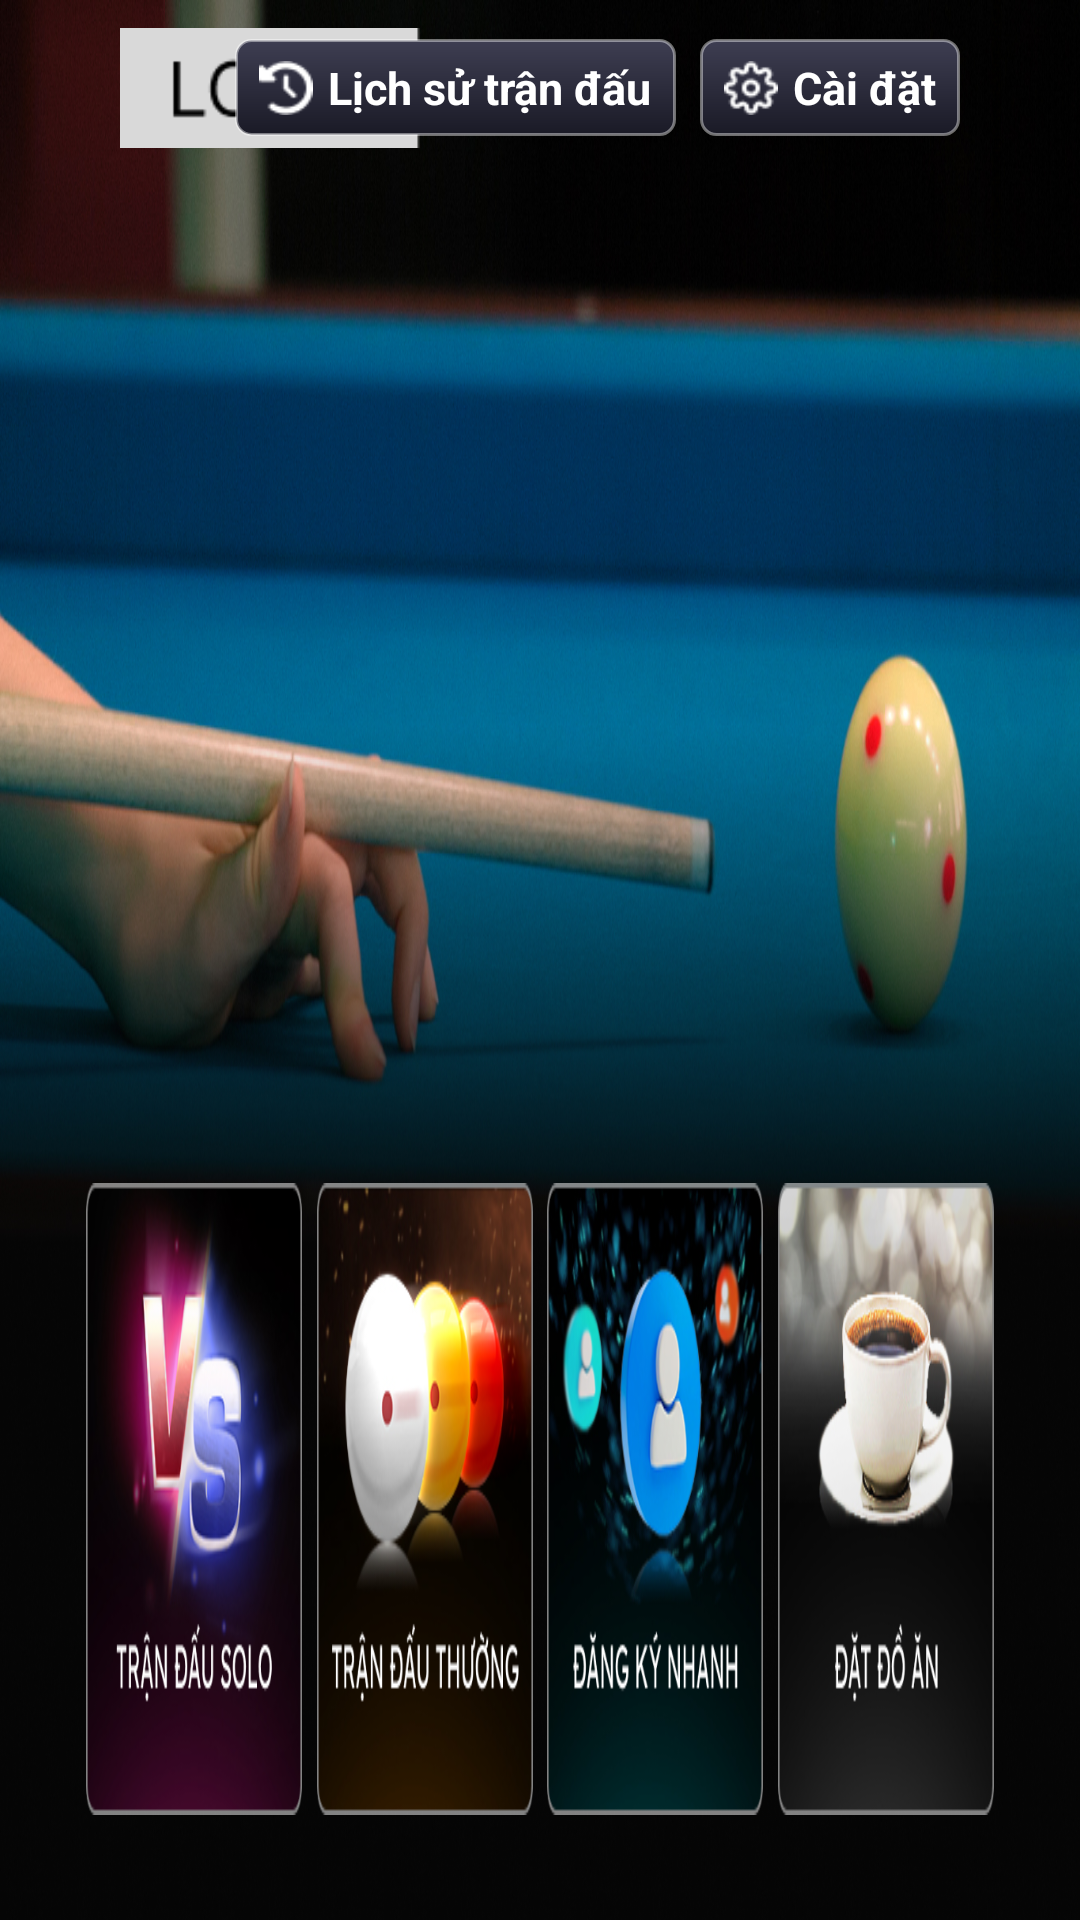

Locate icon controls on the screen. Image size 1080×1920, boxes as rect(x1, y1, x2, y2).
setting: rect(724, 61, 778, 115)
